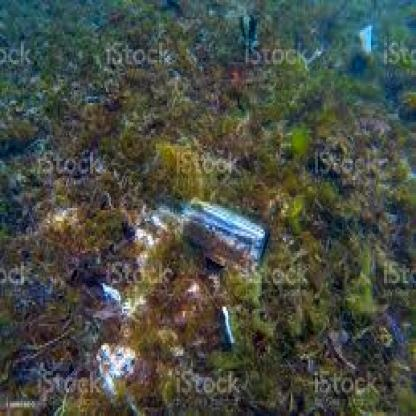can: (179, 193, 271, 279)
